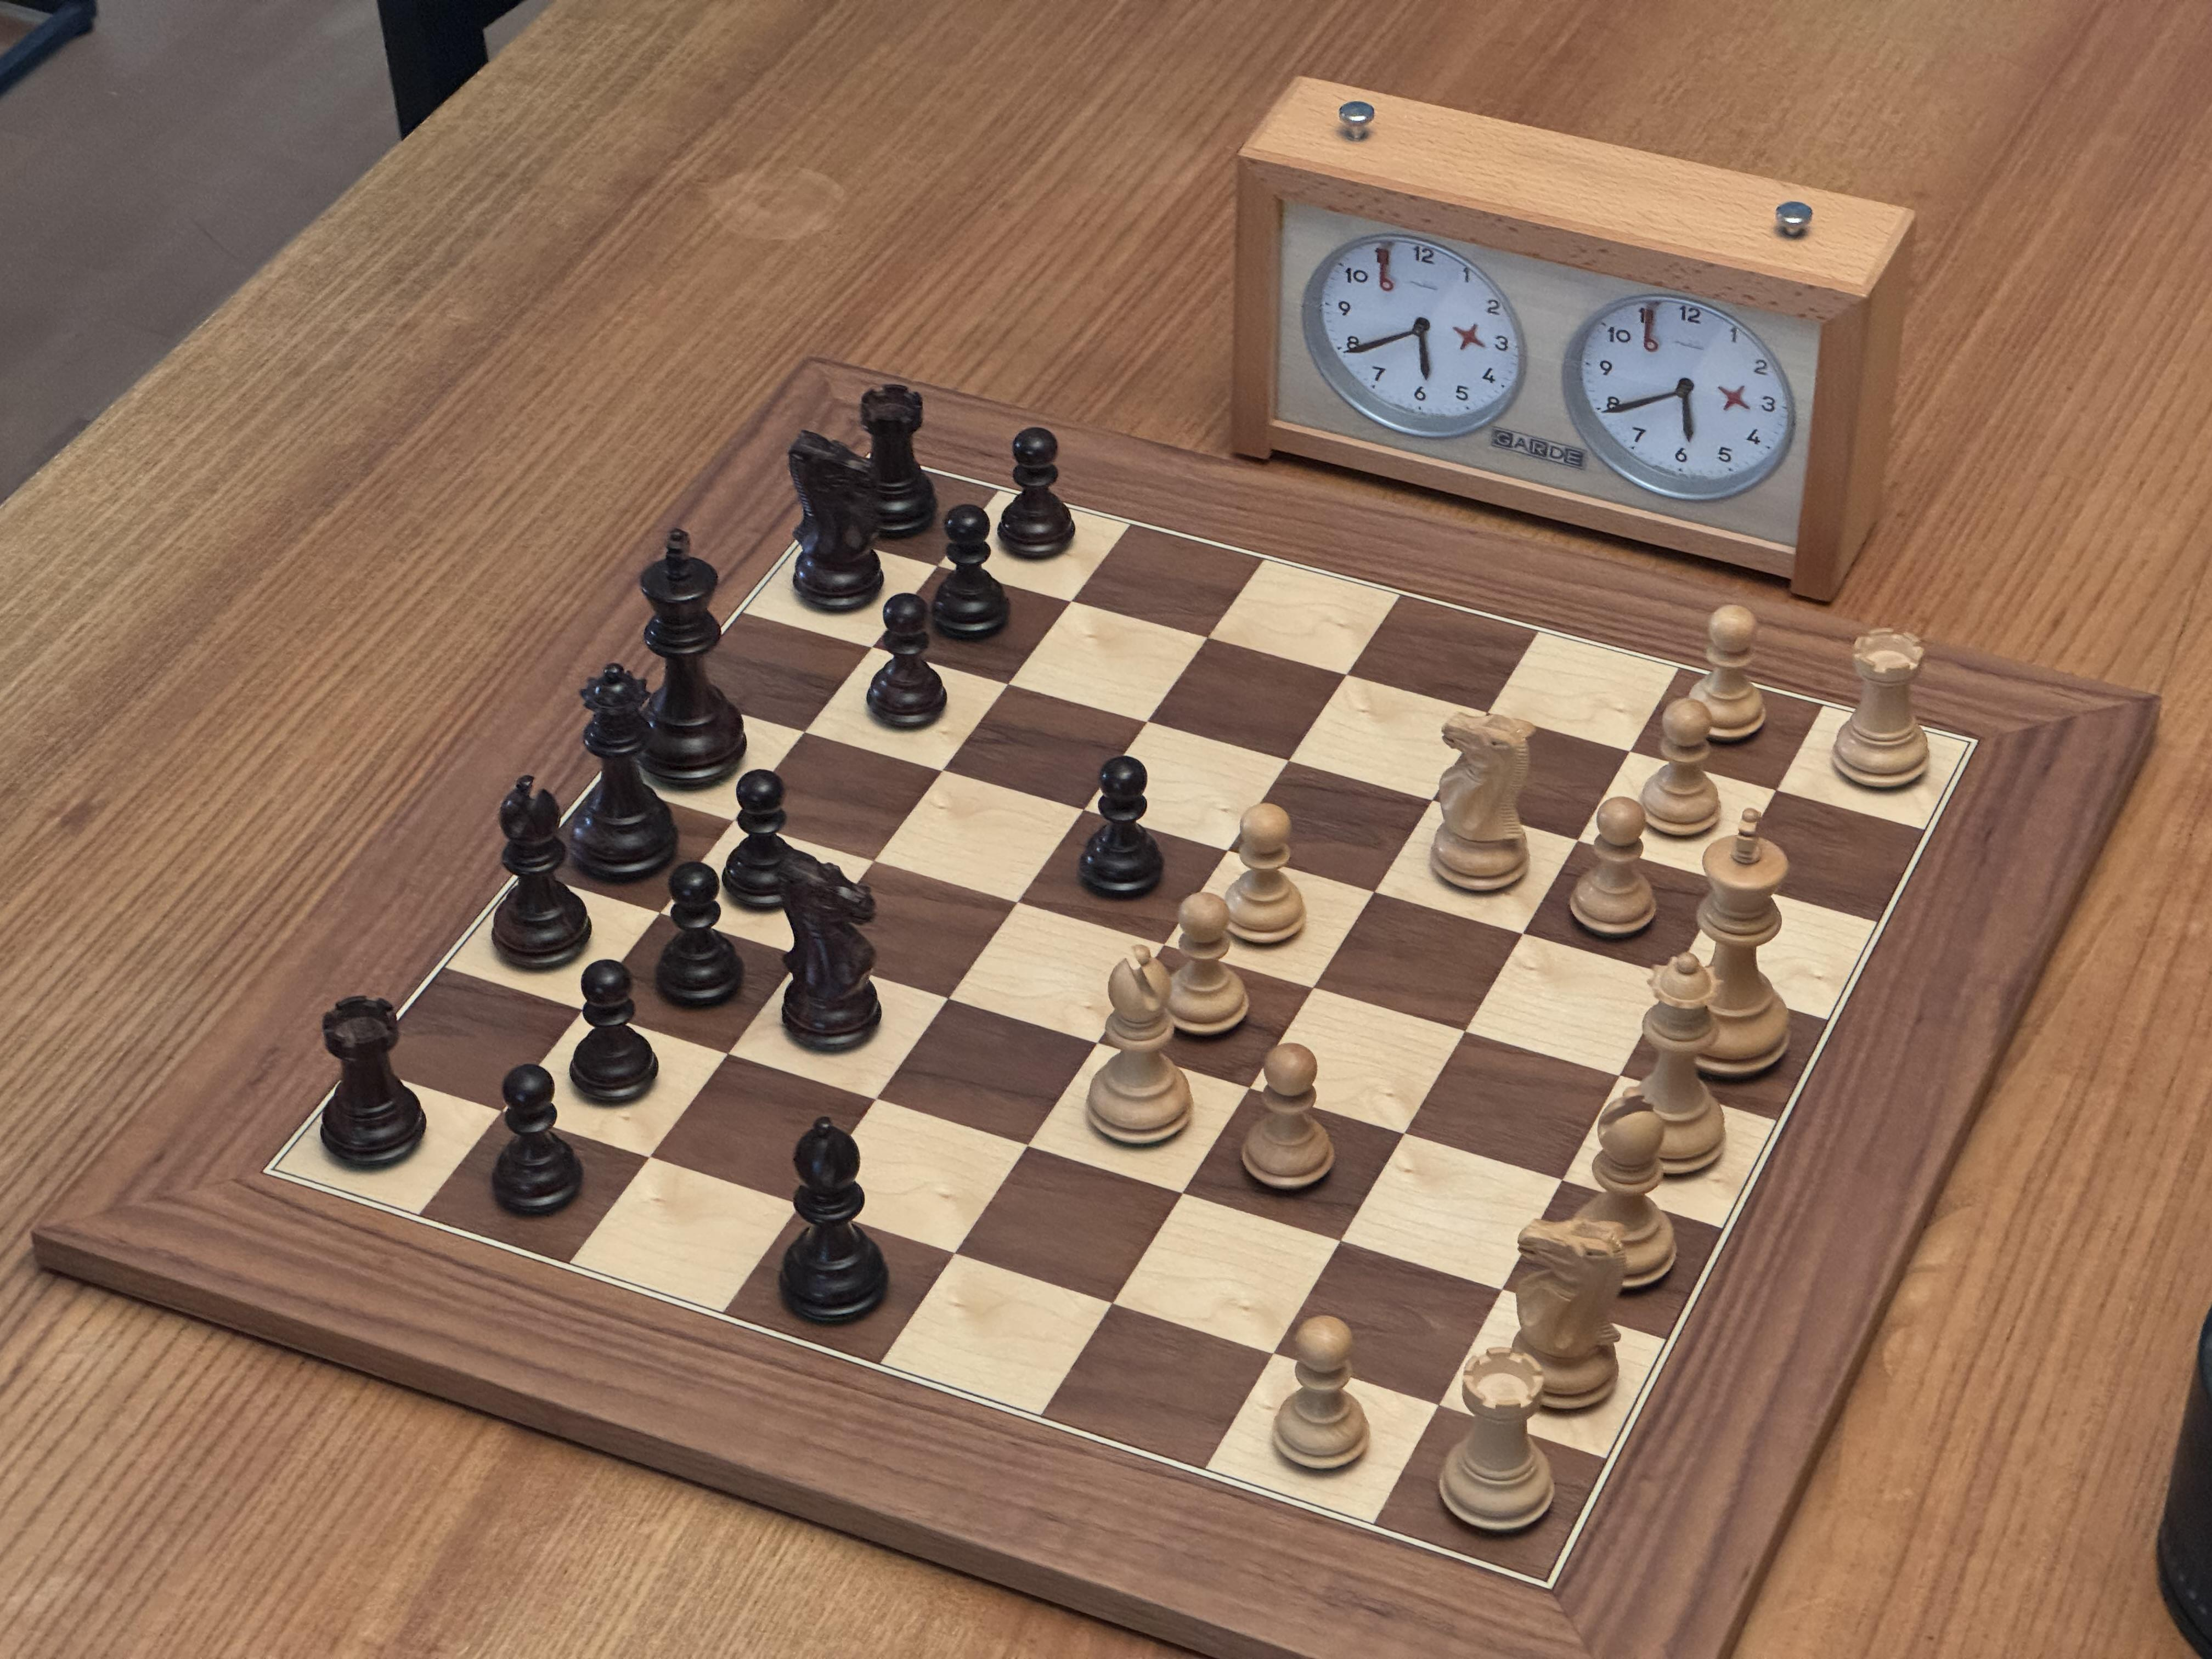Black Bishop: (766, 1112, 892, 1326), (482, 769, 594, 974)
Black King: (625, 523, 751, 793)
Black Knight: (766, 843, 887, 1054), (773, 427, 885, 617)
Black Pawn: (481, 1058, 587, 1220), (564, 957, 665, 1110), (651, 857, 747, 1016), (718, 765, 815, 917), (1073, 751, 1167, 906), (925, 498, 1014, 645), (995, 420, 1080, 566), (864, 589, 951, 732)
Black Queen: (563, 655, 685, 889)
Black Rook: (312, 988, 432, 1176), (841, 378, 941, 545)
White Bishop: (1550, 1079, 1688, 1297), (1080, 939, 1198, 1150)
White King: (1658, 798, 1799, 1082)
White Knight: (1496, 1215, 1632, 1417), (1420, 701, 1541, 899)
White Pawn: (1266, 1304, 1376, 1481), (1153, 889, 1258, 1047), (1240, 1039, 1343, 1195), (1562, 793, 1663, 943), (1214, 800, 1313, 951), (1674, 603, 1771, 748), (1637, 697, 1724, 843)
White Queen: (1601, 948, 1731, 1185)
White Rook: (1430, 1335, 1561, 1541), (1829, 620, 1933, 798)
